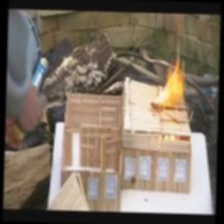fire: (157, 58, 189, 103)
